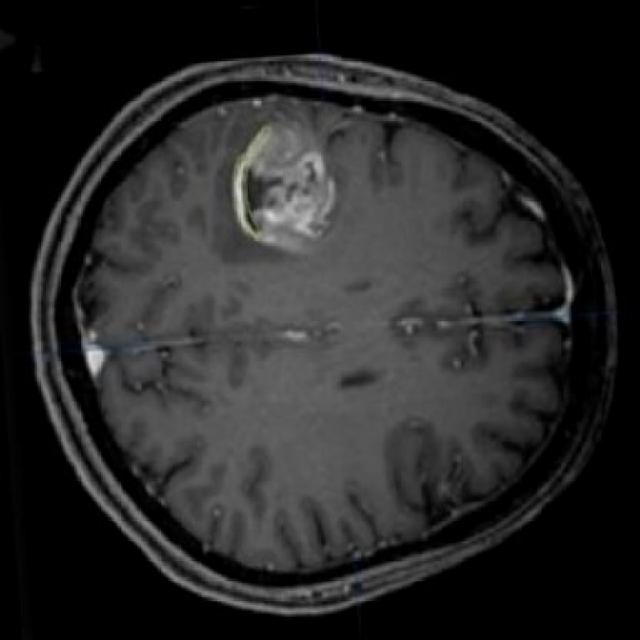Brain-Tumor: (219, 110, 359, 262)
